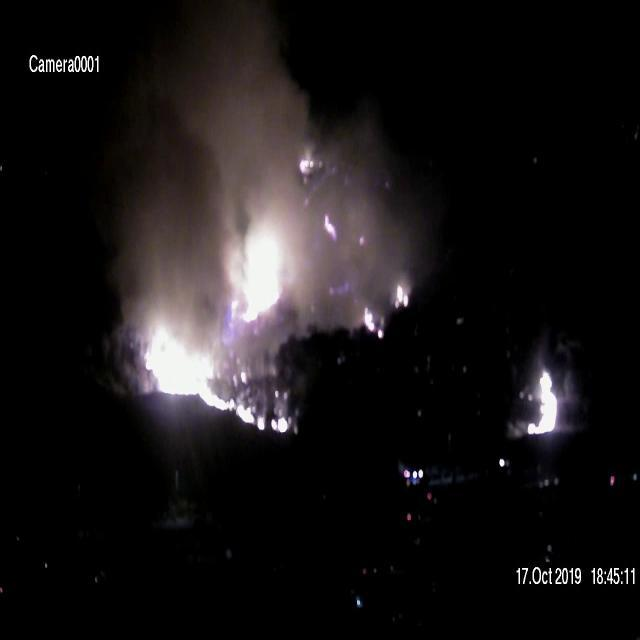Fire: (150, 331, 290, 433), (225, 220, 283, 320), (524, 360, 558, 439), (388, 278, 408, 310), (360, 300, 376, 334), (322, 212, 338, 240), (296, 157, 316, 176)
Smoke: (108, 0, 298, 209)
